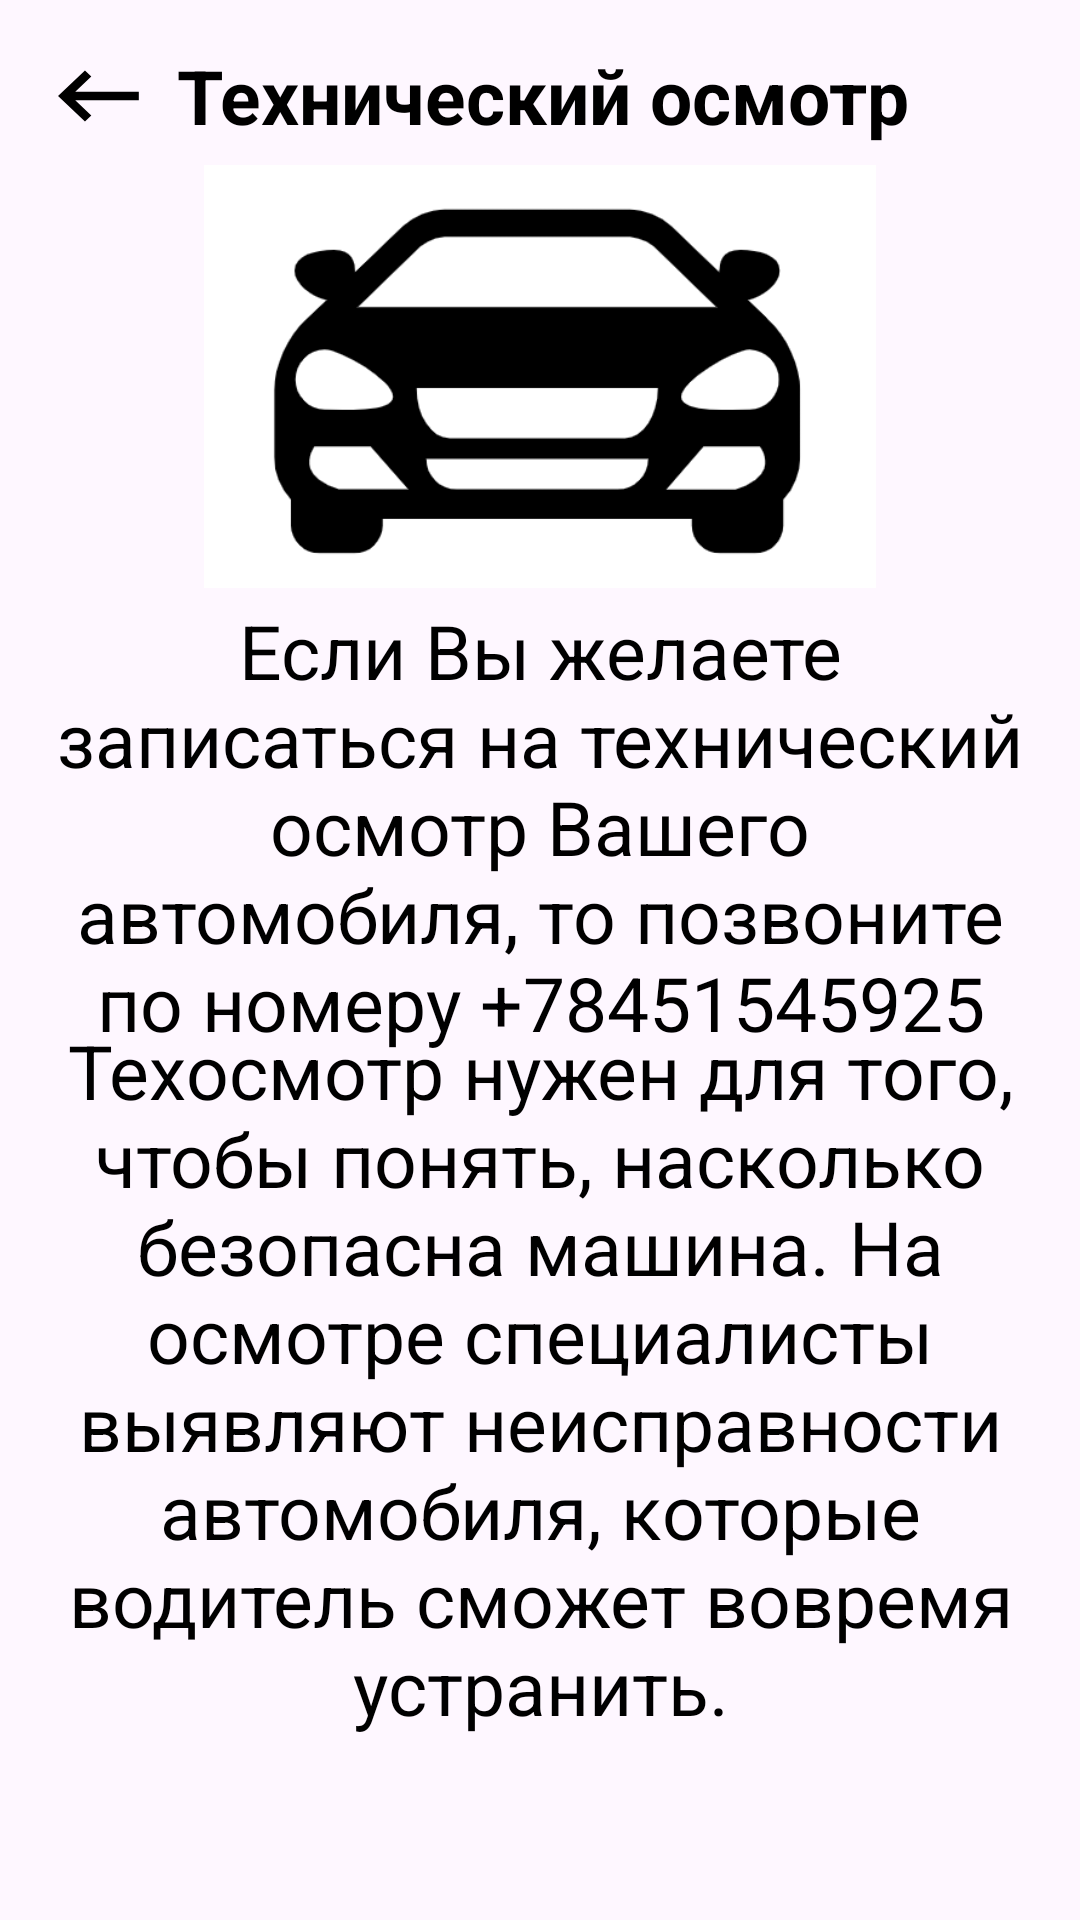

Point at icon controls on the screen. Image size 1080×1920, points as point (x, y).
back: point (98, 96)
